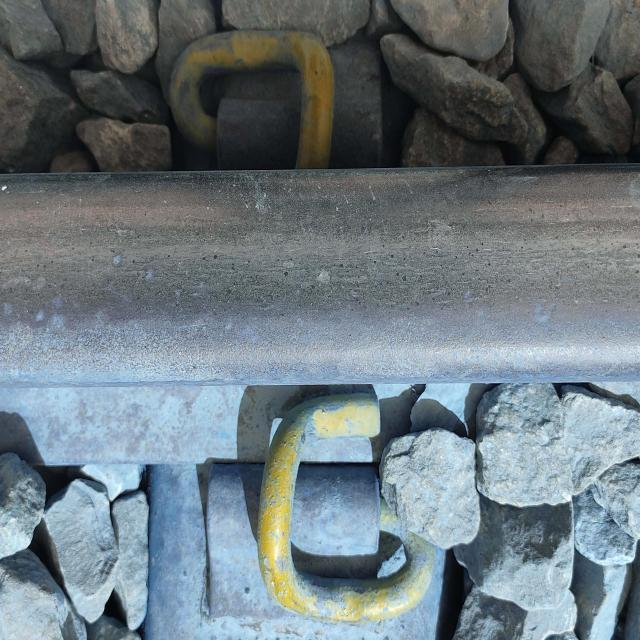Good Fasteners: (164, 363, 461, 640), (162, 0, 386, 169)
